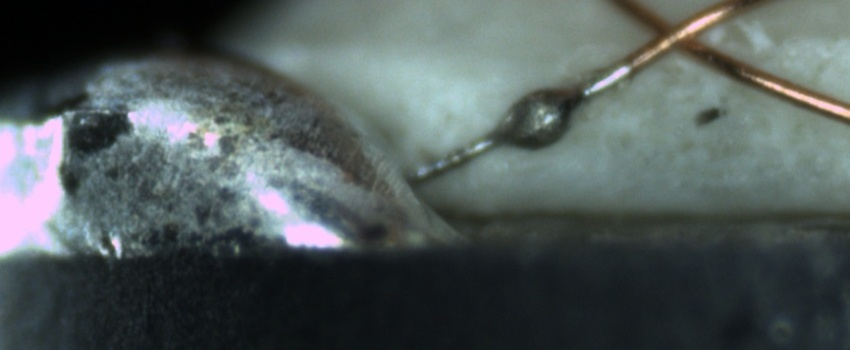CL: (626, 2, 723, 66)
DL: (574, 27, 850, 66)
TB: (495, 82, 582, 160)
TS: (413, 60, 635, 182)
TTCW: (402, 34, 672, 186)
